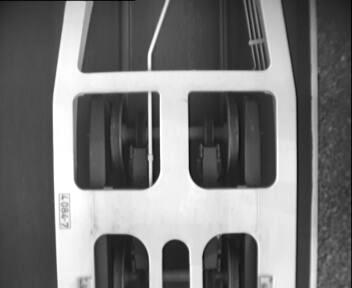wagon_scan: (88, 229, 263, 288)
